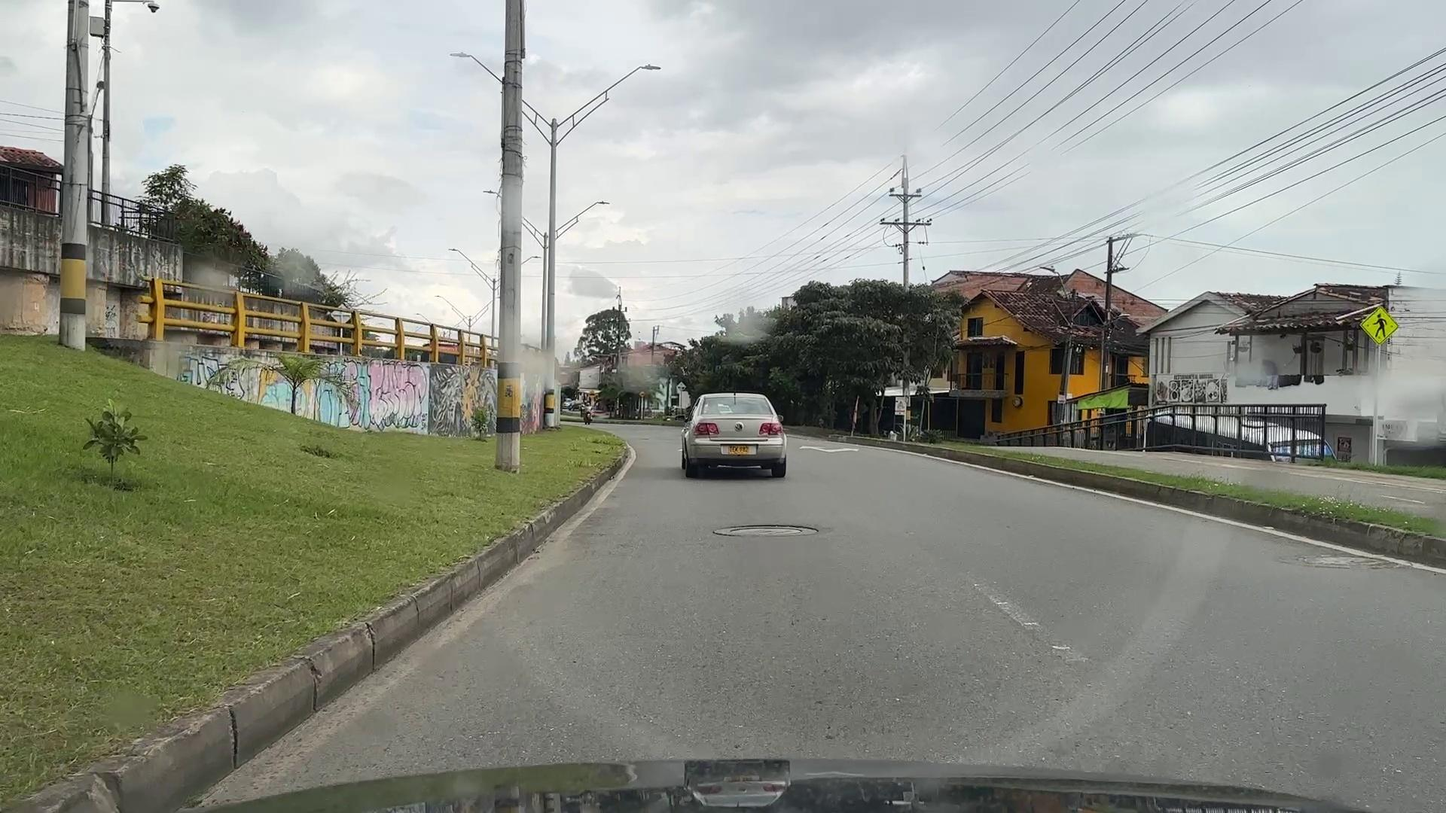registro: (1304, 557, 1382, 566), (730, 528, 803, 535)
